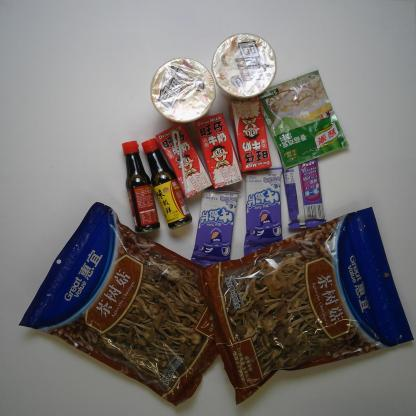Candy: (241, 165, 288, 259), (192, 185, 240, 269), (280, 154, 330, 232)
Dried Food: (16, 198, 231, 409), (193, 207, 415, 406)
Instant Noodles: (212, 30, 278, 100), (152, 57, 218, 122)
Milk: (157, 123, 212, 199), (195, 112, 243, 190), (231, 98, 272, 171)
Seasoner: (259, 68, 350, 168), (142, 137, 192, 228), (121, 140, 161, 232)
